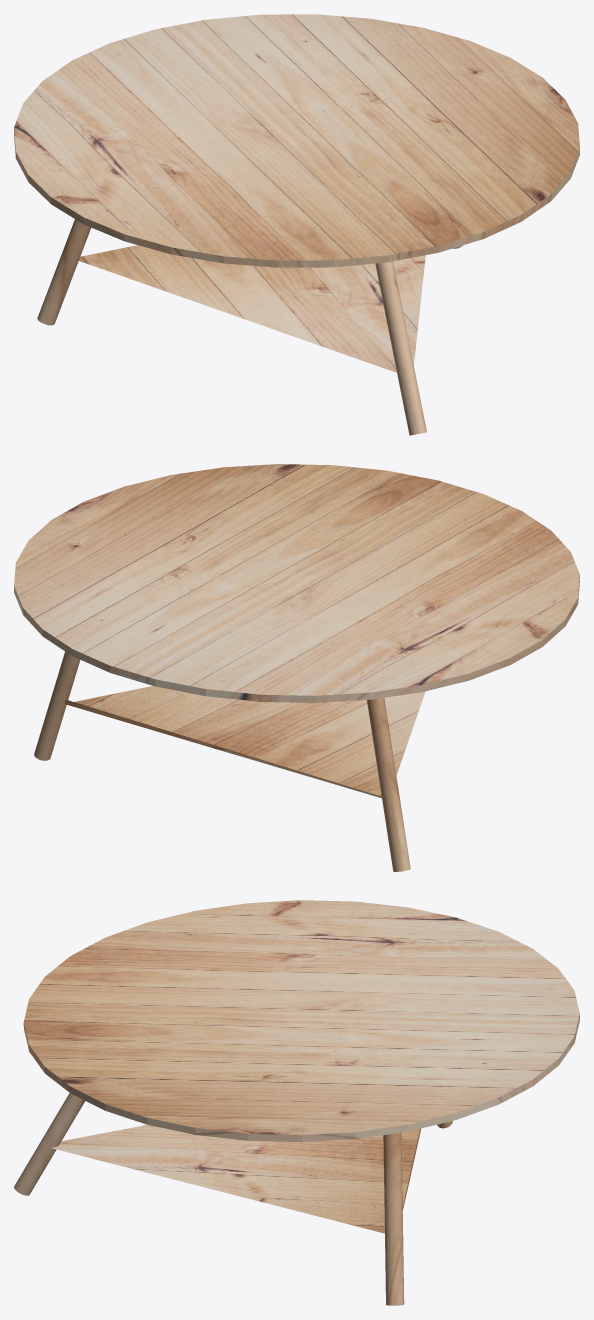
File: CoffeeTable.fbx
3 views of the same model, one above another, from view 1: azimuth 30°, elevation 25°; view 2: azimuth 150°, elevation 25°; view 3: azimuth 270°, elevation 25° (orthographic).
Parts seen in each view (by area): view 1: Circle; view 2: Circle; view 3: Circle.
Boxes of the visible parts, x1=… form: Circle: x1=14, y1=14, x2=579, y2=435; Circle: x1=14, y1=464, x2=579, y2=871; Circle: x1=14, y1=900, x2=579, y2=1305.
Bounding box in the file's own units: 200 × 78.03 × 204.
